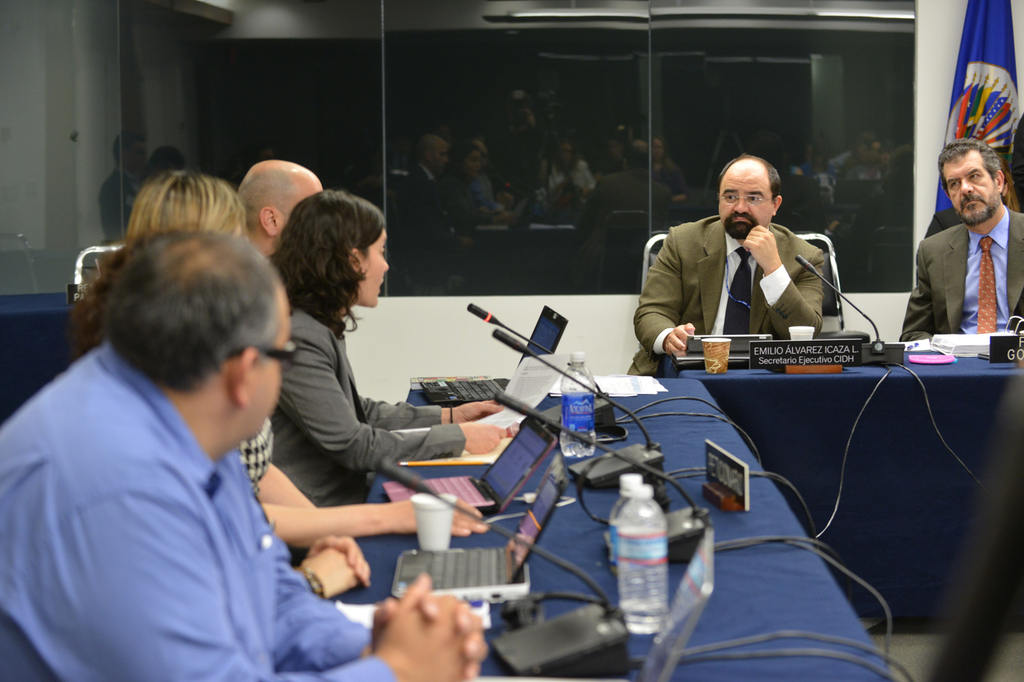face: (172, 242, 291, 455), (709, 162, 786, 233), (333, 235, 398, 311), (942, 152, 999, 215)
person: (8, 226, 481, 676), (102, 166, 477, 536), (251, 193, 504, 509), (630, 154, 853, 357), (893, 144, 1018, 332), (387, 129, 452, 266), (528, 125, 590, 210), (459, 137, 510, 226), (503, 84, 539, 196)
